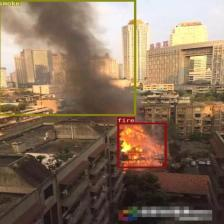fire: (117, 122, 166, 168)
smoke: (0, 0, 135, 115)
